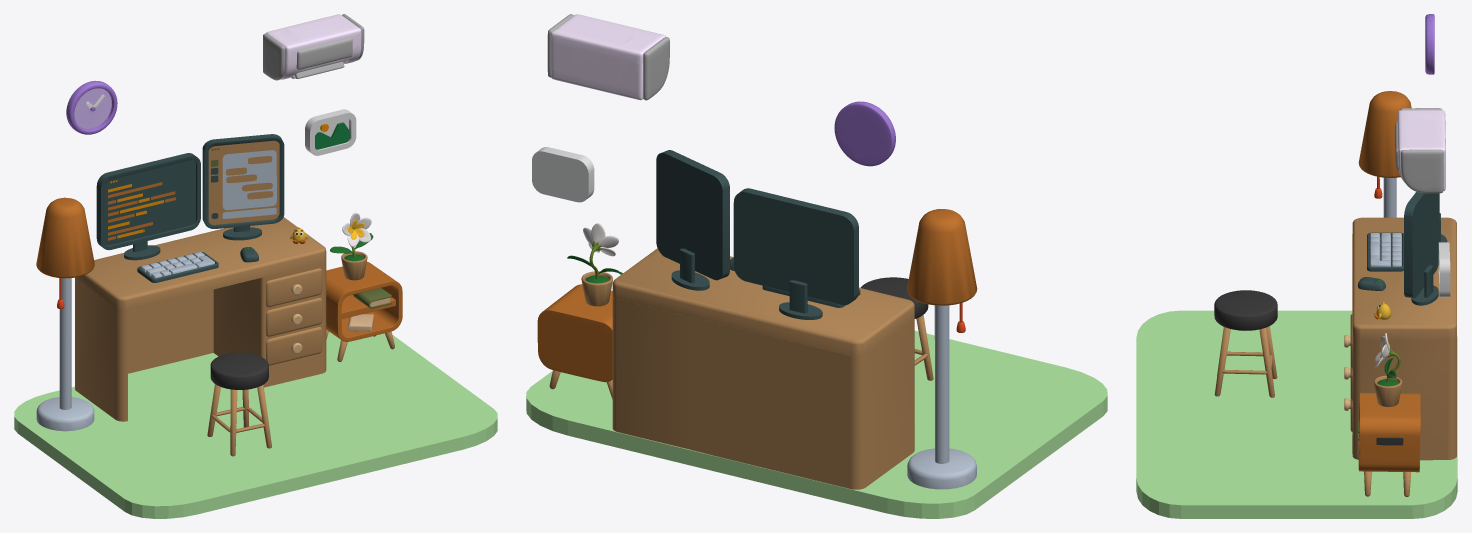
File: office-final.glb
3 views of the same model, side by side, from view 1: azimuth 30°, elevation 25°; view 2: azimuth 150°, elevation 25°; view 3: azimuth 270°, elevation 25° (orthographic). The views are drawn at different scales.
Visible parts, largest first — view 1: Plane, Table, Monitor - 1, Stand-lamp, Monitor - 2, Meez, Chair, AC, Plane.001, Cylinder.001, Wall-Picture, FlowerPot (+3 smaller); view 2: Table, Plane, Monitor - 1, Stand-lamp, Monitor - 2, AC, Meez, Cylinder.001, Wall-Picture, FlowerPot, Cube.015, Chair; view 3: Plane, Table, Meez, Chair, Monitor - 2, Stand-lamp, AC, Cube.015, Keyboard, FlowerPot, Wall-Picture, Cylinder.001.
Part boxes in pixels (x1=…): Plane: x1=14, y1=332, x2=497, y2=518; Table: x1=75, y1=217, x2=326, y2=421; Monitor - 1: x1=96, y1=153, x2=200, y2=260; Stand-lamp: x1=36, y1=197, x2=94, y2=431; Monitor - 2: x1=202, y1=134, x2=284, y2=240; Meez: x1=326, y1=261, x2=402, y2=341; Chair: x1=207, y1=352, x2=271, y2=456; AC: x1=266, y1=14, x2=361, y2=79; Plane.001: x1=222, y1=150, x2=276, y2=210; Cylinder.001: x1=66, y1=80, x2=117, y2=134; Wall-Picture: x1=305, y1=109, x2=356, y2=155; FlowerPot: x1=330, y1=212, x2=373, y2=280; Table: x1=612, y1=248, x2=914, y2=489; Plane: x1=526, y1=330, x2=1107, y2=518; Monitor - 1: x1=733, y1=188, x2=858, y2=319; Stand-lamp: x1=907, y1=209, x2=977, y2=489; Monitor - 2: x1=656, y1=150, x2=729, y2=290; AC: x1=551, y1=14, x2=666, y2=100; Meez: x1=537, y1=284, x2=612, y2=382; Cylinder.001: x1=834, y1=101, x2=895, y2=166; Wall-Picture: x1=532, y1=147, x2=594, y2=202; FlowerPot: x1=567, y1=223, x2=622, y2=306; Cube.015: x1=547, y1=14, x2=669, y2=100; Chair: x1=860, y1=277, x2=933, y2=380; Plane: x1=1136, y1=310, x2=1457, y2=518; Table: x1=1344, y1=217, x2=1456, y2=460; Meez: x1=1358, y1=392, x2=1420, y2=472; Chair: x1=1214, y1=290, x2=1277, y2=397; Monitor - 2: x1=1404, y1=192, x2=1439, y2=305; Stand-lamp: x1=1358, y1=91, x2=1411, y2=217; AC: x1=1397, y1=110, x2=1445, y2=190; Cube.015: x1=1400, y1=108, x2=1443, y2=193; Keyboard: x1=1367, y1=232, x2=1403, y2=271; FlowerPot: x1=1374, y1=333, x2=1402, y2=406; Wall-Picture: x1=1438, y1=242, x2=1450, y2=297; Cylinder.001: x1=1425, y1=14, x2=1434, y2=74.
Bounding box in the file's own units: 3.33 × 2.82 × 2.32.
